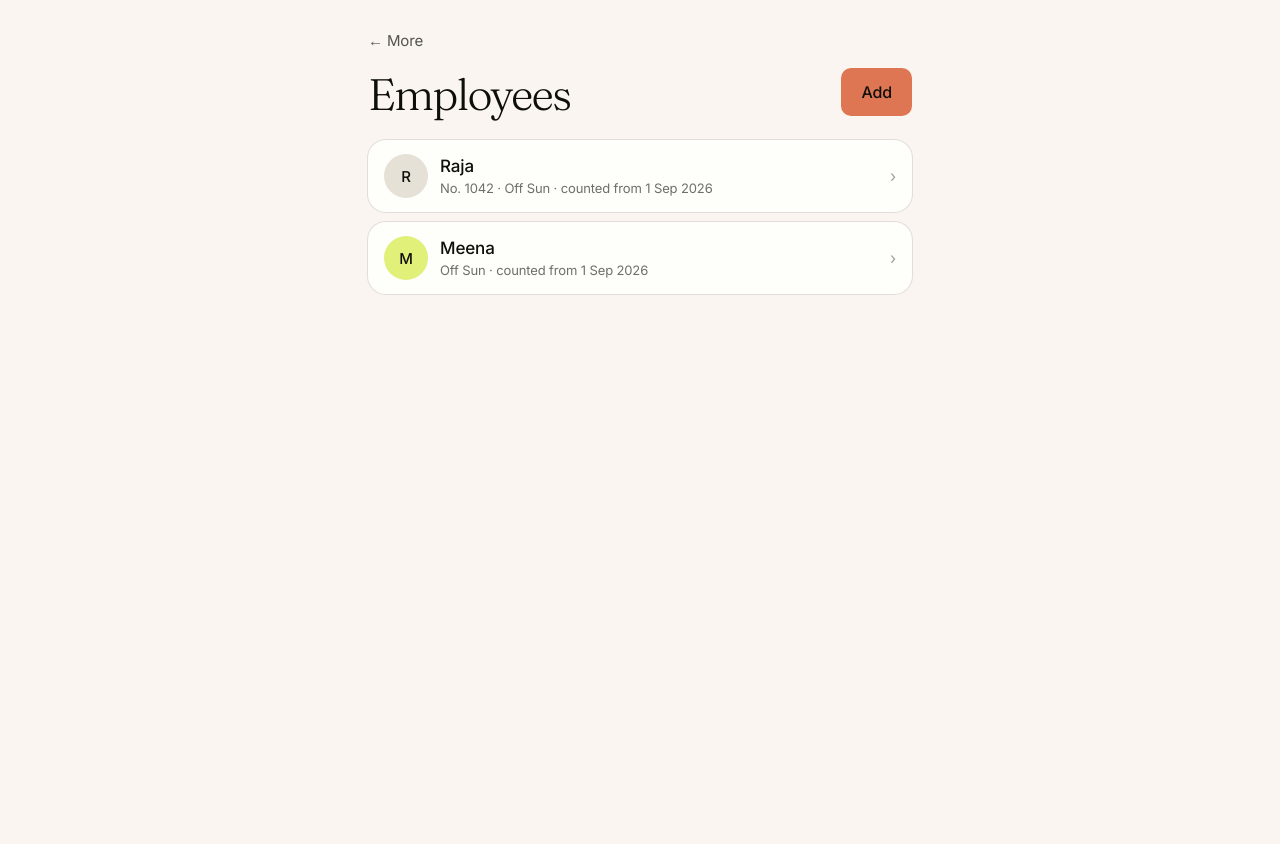
Test case: Employee enrollment number › refuses a number another employee already has, but not your own
Click the text "Meena": (467, 248) left=440, top=238, right=495, bottom=258
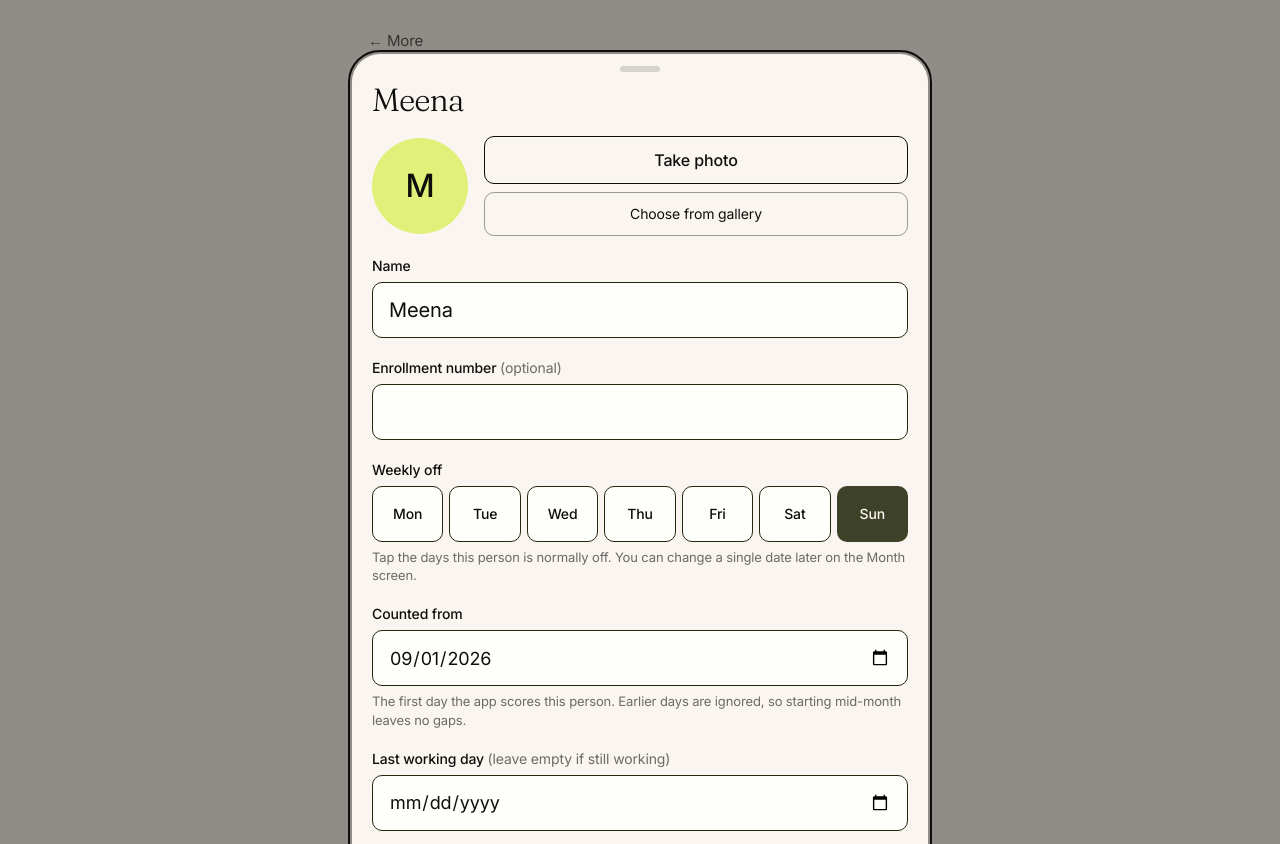
In the field labelled "Enrollment number (optional)": (640, 412) left=372, top=384, right=908, bottom=440, type "1042"
(page scrolled)
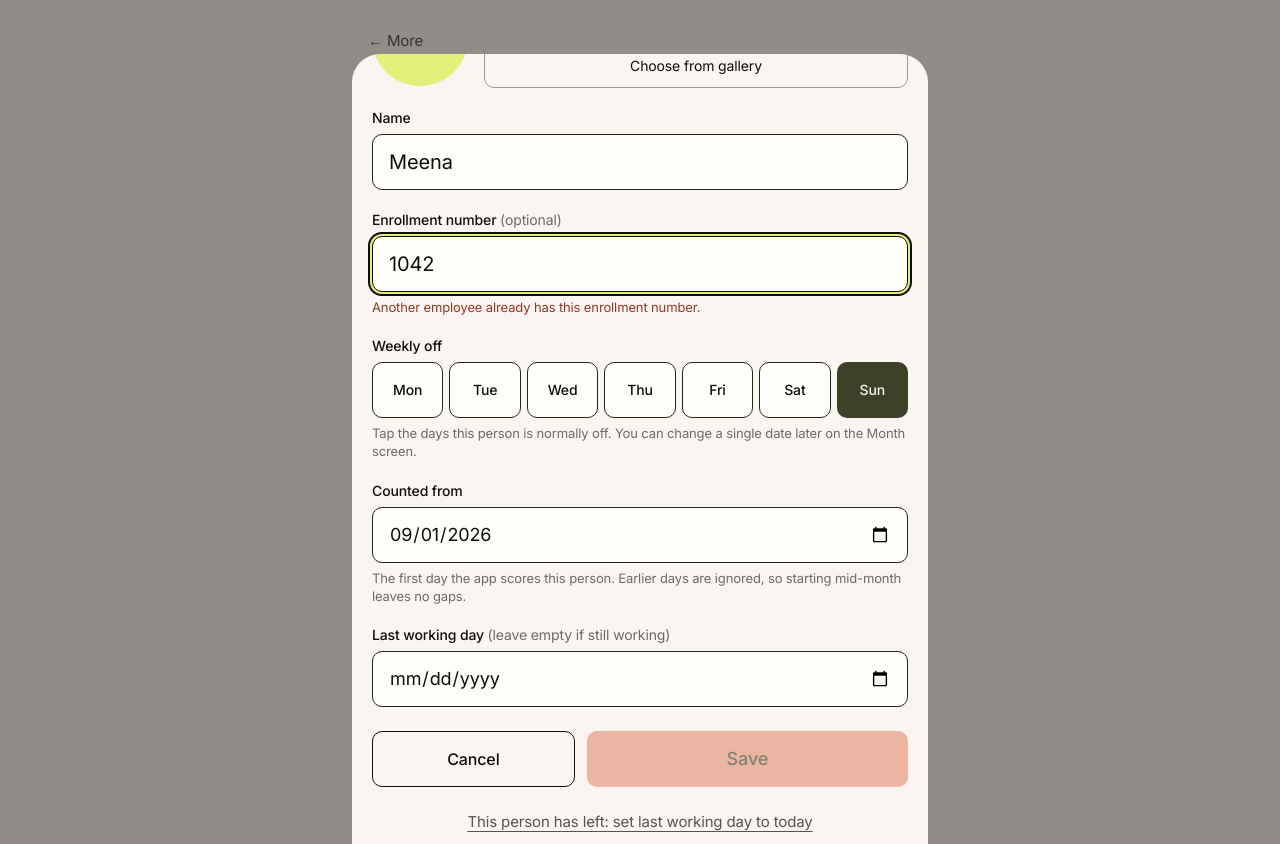
Now the text "Another employee already has this enrollment number." is shown, box left=372, top=299, right=700, bottom=315
Now the button "Save" is disabled, box left=587, top=731, right=908, bottom=787
Click the button "Cancel": (473, 759) left=372, top=731, right=575, bottom=787
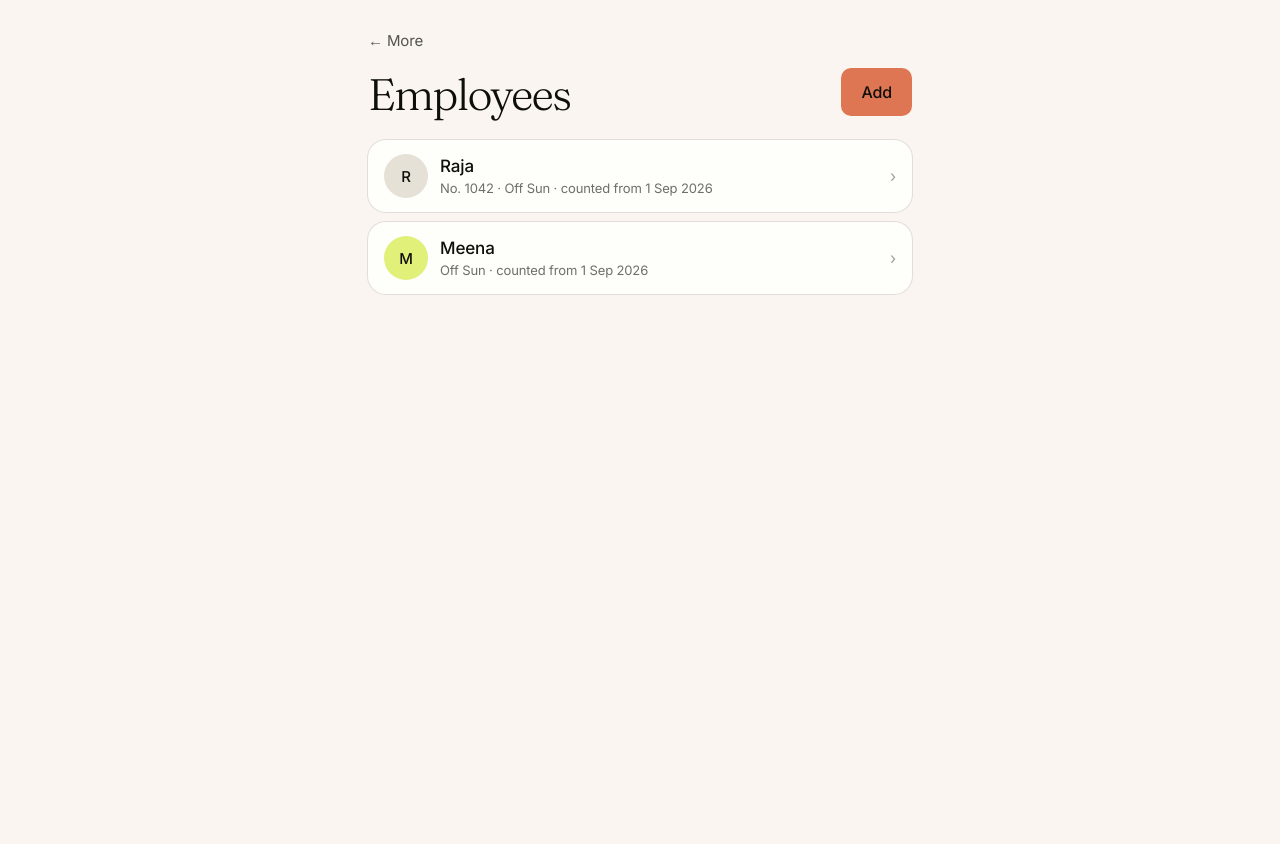
Click the text "Raja": (457, 166) left=440, top=156, right=474, bottom=176
(page scrolled)
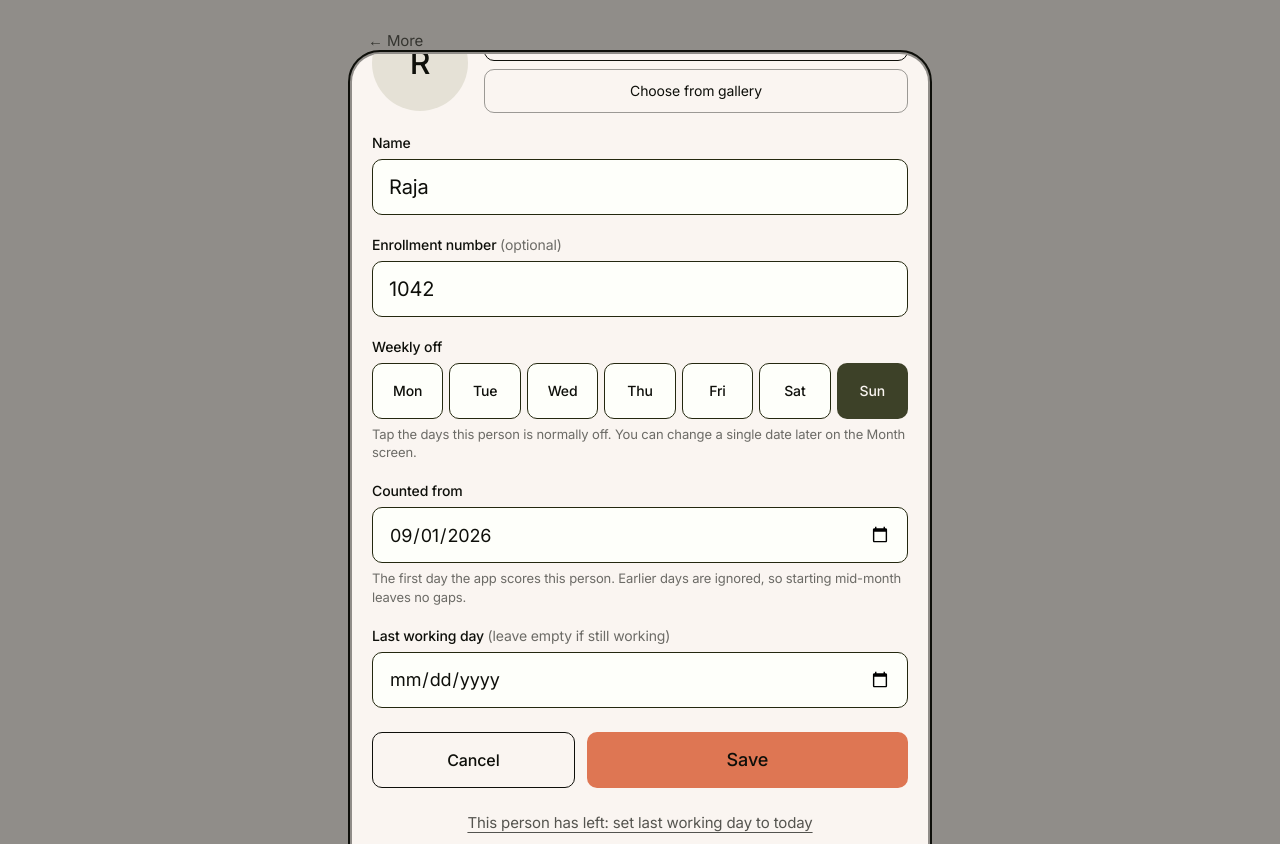
Expected: the text "already has this enrollment number" is not shown
Now the button "Save" is enabled, box left=587, top=732, right=908, bottom=788
